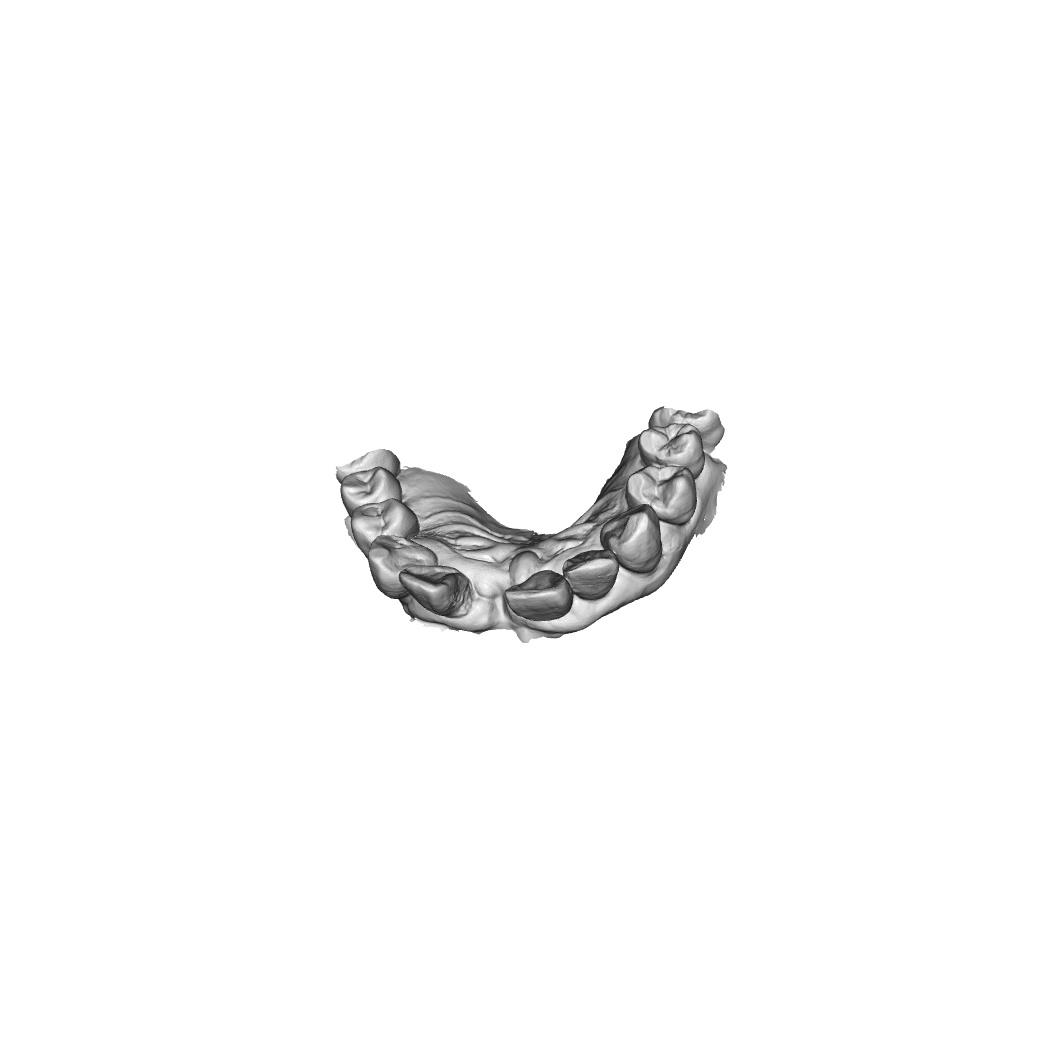canine: (367, 534, 439, 600), (599, 503, 663, 575)
incisor: (397, 564, 473, 619), (504, 569, 574, 622), (562, 547, 620, 602)
premolar: (624, 462, 698, 526), (350, 497, 421, 557), (638, 422, 706, 482), (339, 465, 403, 518)
